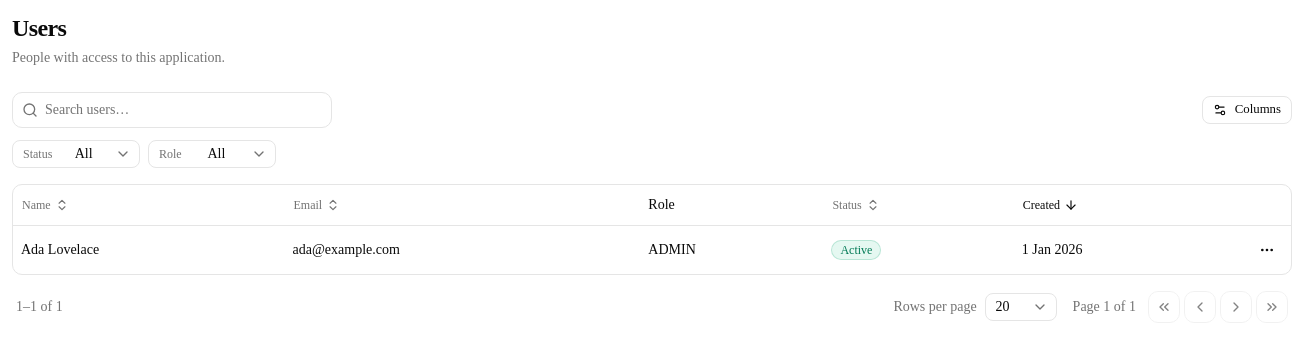
Test: ResourceListPage › omits the delete action without the delete permission
Click the button named "actions for ada lovelace".
click(1267, 250)  # box [1251,234,1283,266]
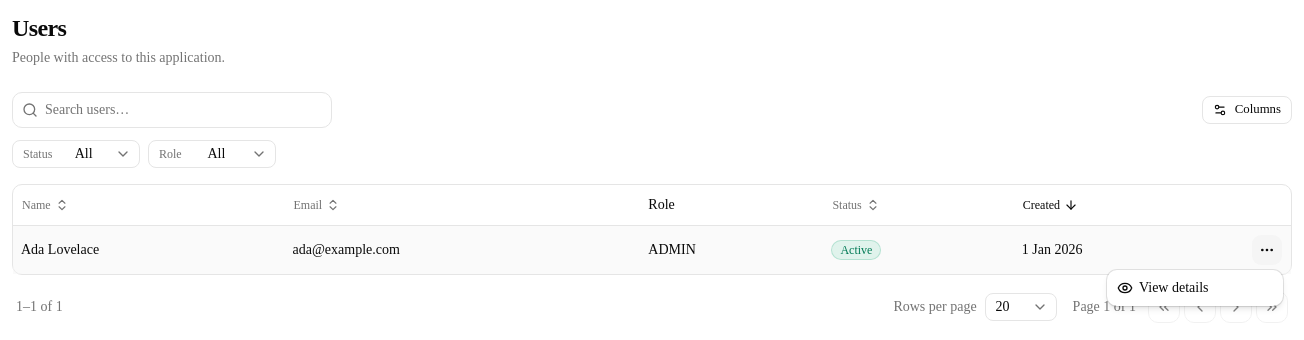
Now the menu item "View details" is shown, box [1117,280,1208,296]
